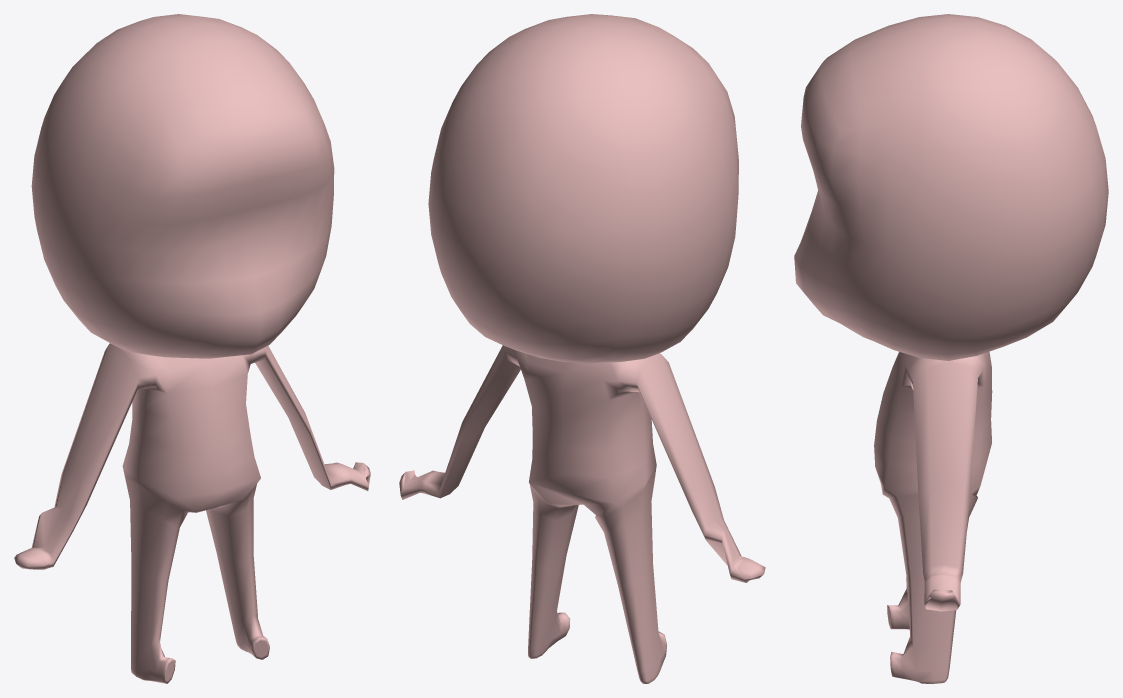
File: TheHuman.fbx
The picture shows the model from 3 angles, left to right: view 1: azimuth 30°, elevation 25°; view 2: azimuth 150°, elevation 25°; view 3: azimuth 270°, elevation 25°; orthographic projection. The views are drawn at different scales.
Visible parts, largest first — view 1: pCube2, pCube1; view 2: pCube2, pCube1; view 3: pCube2, pCube1.
Boxes of the visible parts, x1,y1,x2,y2 form: pCube2: (31, 14, 334, 358); pCube1: (14, 343, 370, 683); pCube2: (428, 14, 738, 363); pCube1: (399, 345, 765, 683); pCube2: (794, 14, 1108, 360); pCube1: (874, 351, 992, 683).
Size of the model in its own units: 1.85 by 3.13 by 1.42.
